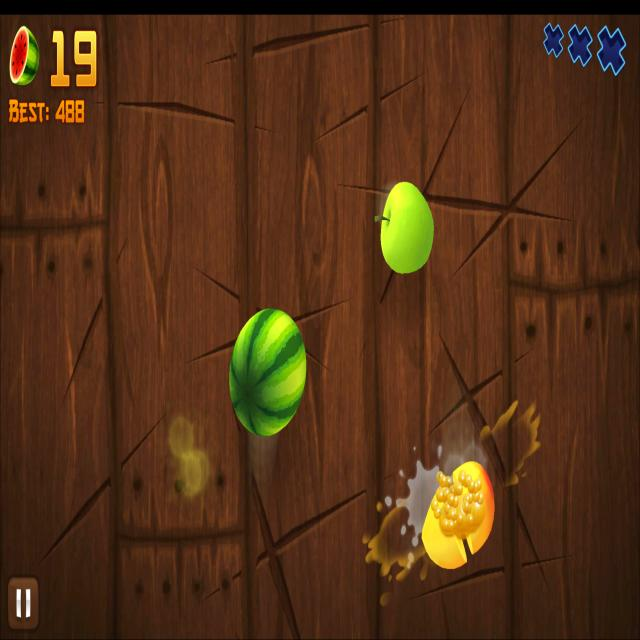fruit: (228, 306, 308, 439), (380, 180, 435, 276)
